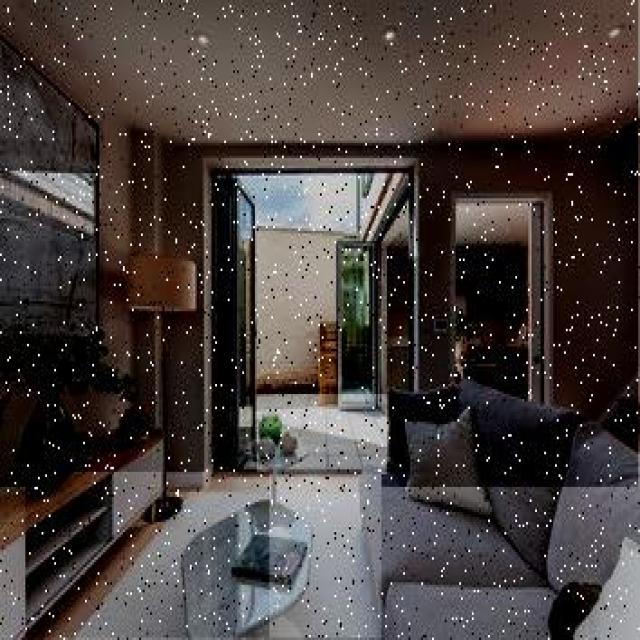Wall: (1, 0, 640, 487), (21, 1, 638, 143), (27, 472, 269, 637), (250, 476, 381, 637), (258, 229, 344, 387), (258, 394, 387, 474), (0, 392, 36, 482), (456, 204, 528, 246), (64, 394, 125, 434)
